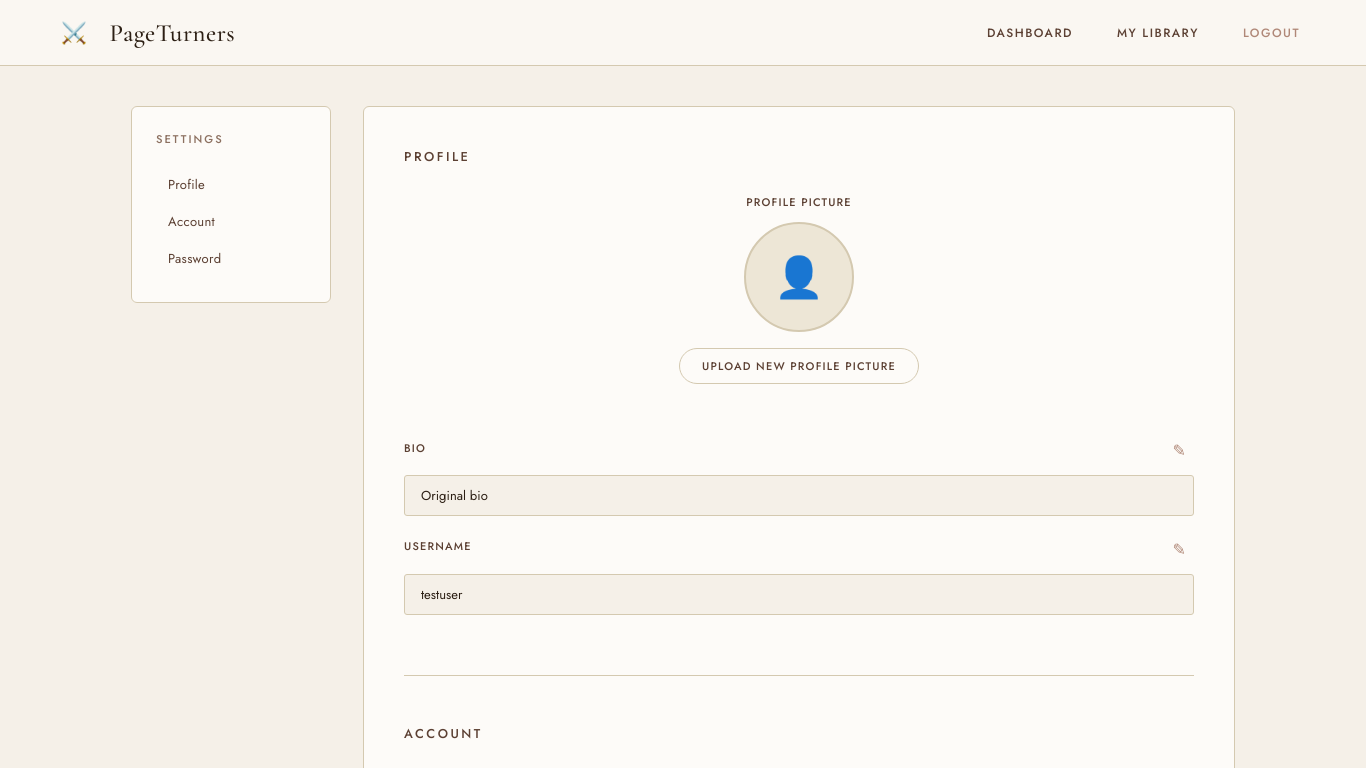
Update Profile Fields › Should save bio successfully
Note: Wait for page to load, then click edit for bio
Click the 1st button titled "Edit" at (1179, 451), box [1165,438,1194,463]
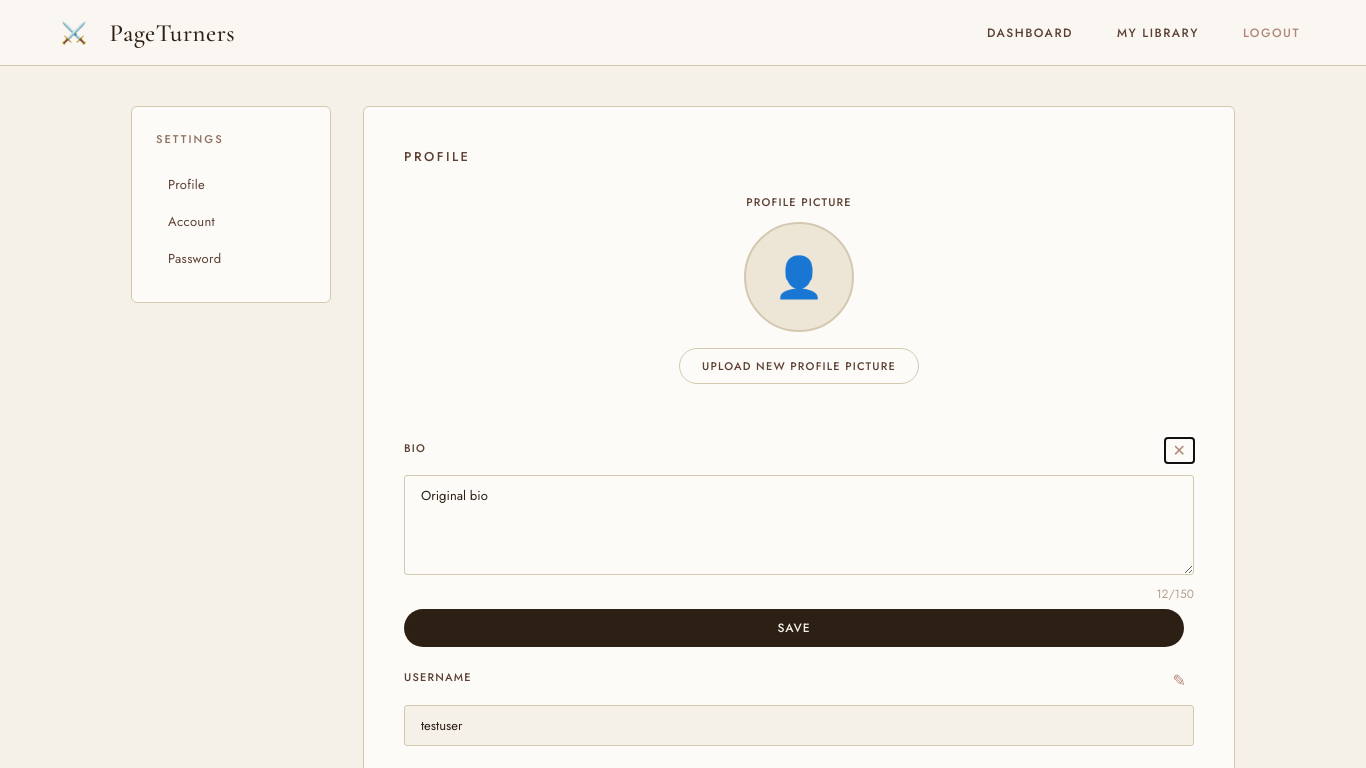
Replace the text in the text box with placeholder "Write about your self <3" with "New bio" at (799, 525), box [404,475,1194,575]
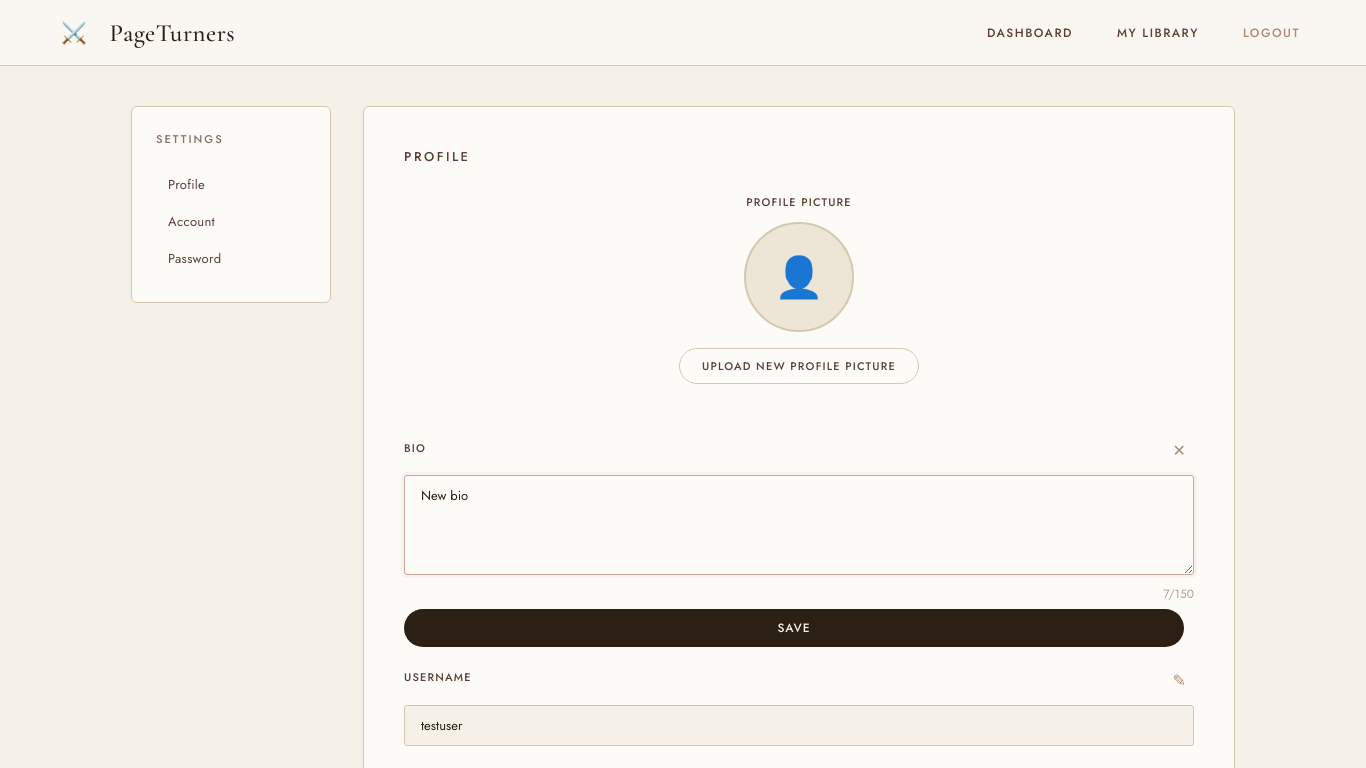
Click the button "Save" at (794, 628), box [404,609,1184,647]
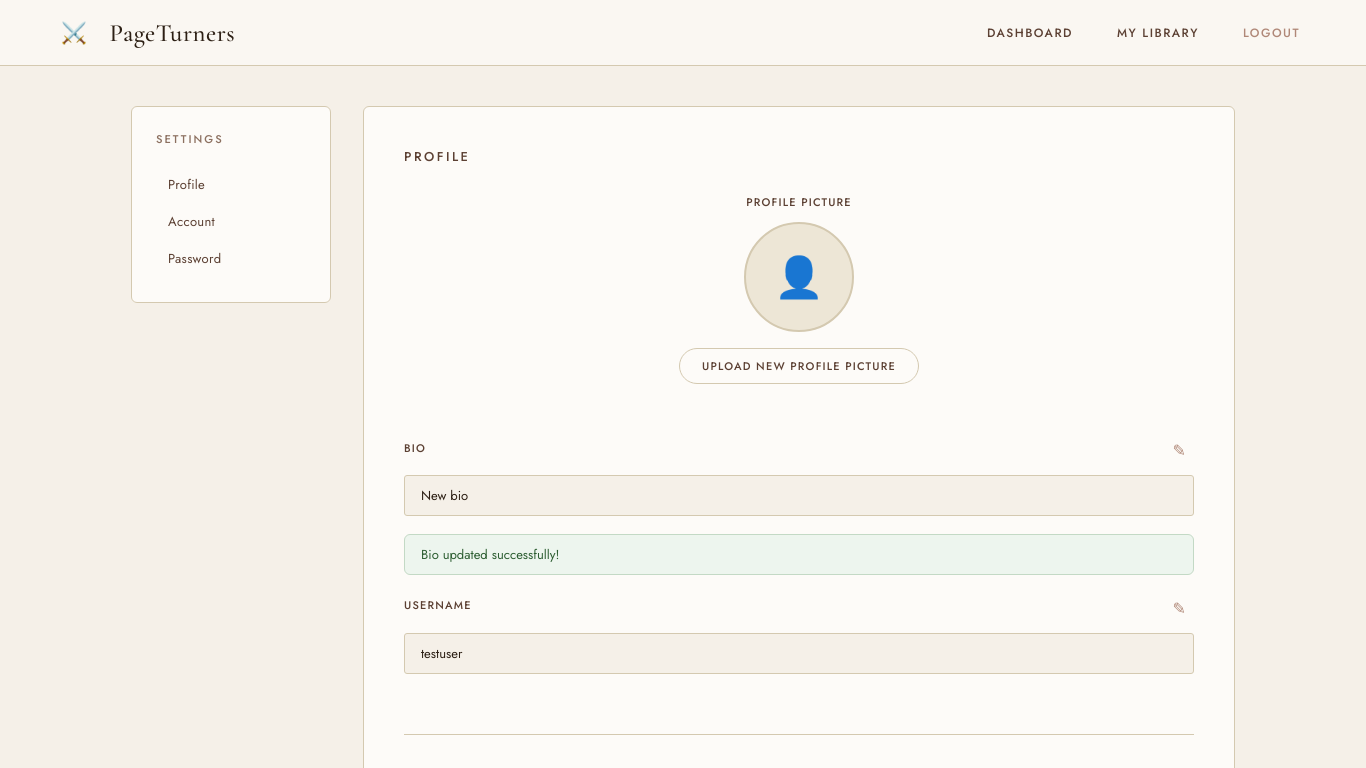
Check: the text "Bio updated successfully!" is shown, box [404,534,1194,575]
